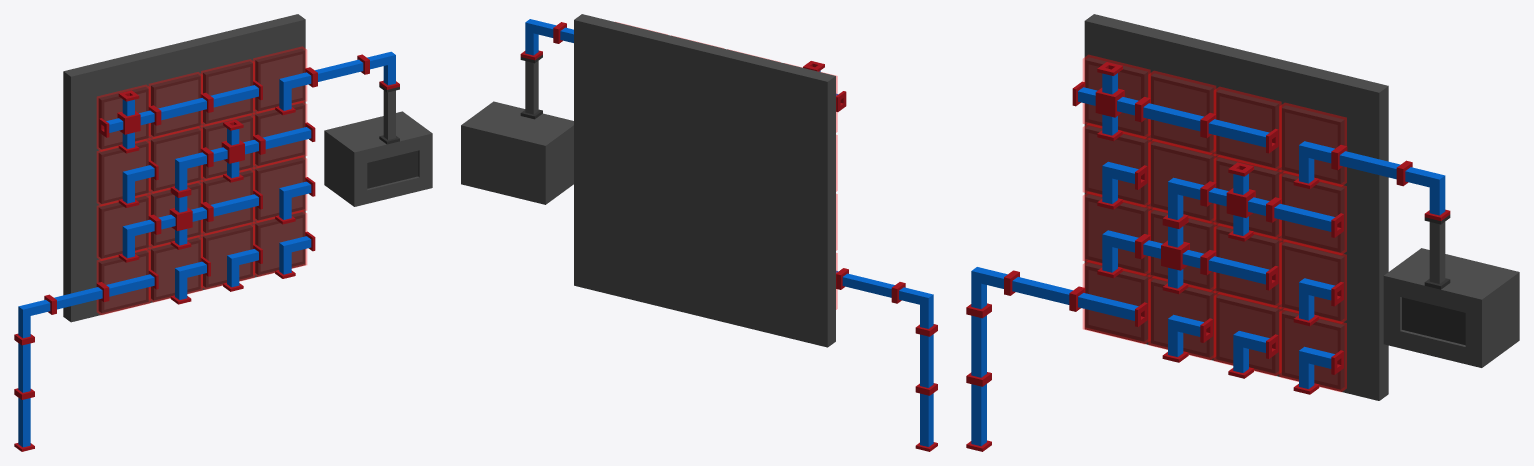
The model's file is Pipe Grid.fbx.
3 renders of one model, left to right at view 1: azimuth 30°, elevation 25°; view 2: azimuth 150°, elevation 25°; view 3: azimuth 330°, elevation 25°, orthographic. The views are drawn at different scales.
Parts seen in each view (by area): view 1: Base, IN.003, IN.011, IN.005, IN.014, IN.008, IN.001, IN.004, IN.002, IN.015, IN.013, IN.007 (+45 smaller); view 2: Base, PipeCurved.001, PipeStraight.002, PipeStraight.004, PipeStraight.005, PipeStraight.001, PipeCurved.002; view 3: Base, IN.011, IN.002, IN.014, IN.003, IN.001, IN.005, IN.015, IN.007, IN.013, IN.012, IN.010 (+45 smaller).
Boxes of the visible parts, <box> form: Base: <box>63,14,432,322</box>; IN.003: <box>253,46,306,113</box>; IN.011: <box>253,156,306,222</box>; IN.005: <box>149,127,202,193</box>; IN.014: <box>201,223,254,289</box>; IN.008: <box>97,194,150,260</box>; IN.001: <box>149,72,202,138</box>; IN.004: <box>97,139,150,205</box>; IN.002: <box>201,59,254,125</box>; IN.015: <box>253,210,306,276</box>; IN.013: <box>149,236,202,302</box>; IN.007: <box>253,101,306,167</box>; Base: <box>461,14,835,347</box>; PipeCurved.001: <box>894,282,937,333</box>; PipeStraight.002: <box>915,328,937,392</box>; PipeStraight.004: <box>520,54,542,119</box>; PipeStraight.005: <box>915,387,937,451</box>; PipeStraight.001: <box>838,268,902,302</box>; PipeCurved.002: <box>520,19,563,60</box>; Base: <box>1084,14,1519,400</box>; IN.011: <box>1279,240,1346,323</box>; IN.002: <box>1214,87,1281,170</box>; IN.014: <box>1214,292,1281,375</box>; IN.003: <box>1279,103,1346,186</box>; IN.001: <box>1148,71,1215,154</box>; IN.005: <box>1148,139,1215,222</box>; IN.015: <box>1279,308,1346,391</box>; IN.007: <box>1279,171,1346,254</box>; IN.013: <box>1148,276,1215,360</box>; IN.012: <box>1083,260,1150,344</box>; IN.010: <box>1214,224,1281,307</box>.
Bounding box in the file's own units: 315 × 250 × 40.
